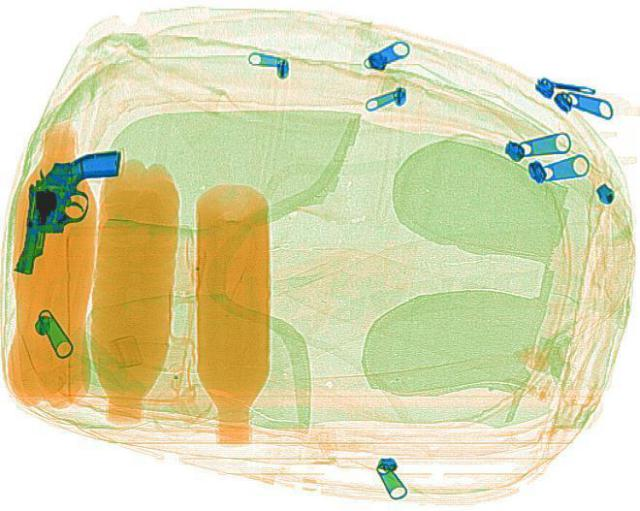Gun: (7, 136, 124, 283)
